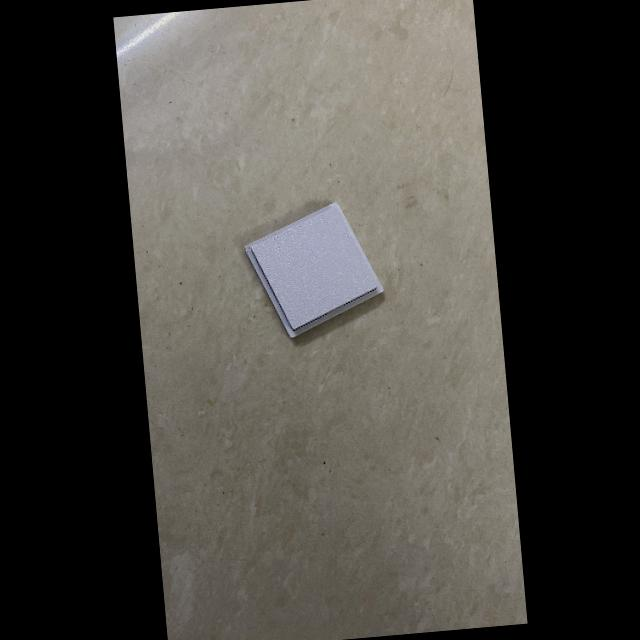RASPBERY PI CAM ENCLOSURE: (244, 203, 384, 339)
